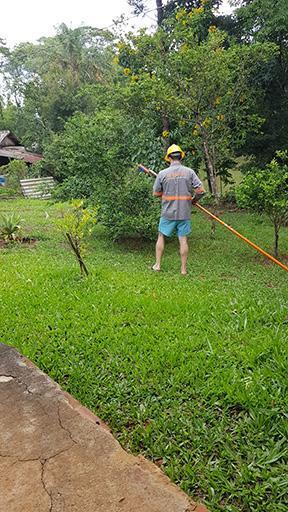helmet: (164, 143, 186, 165)
